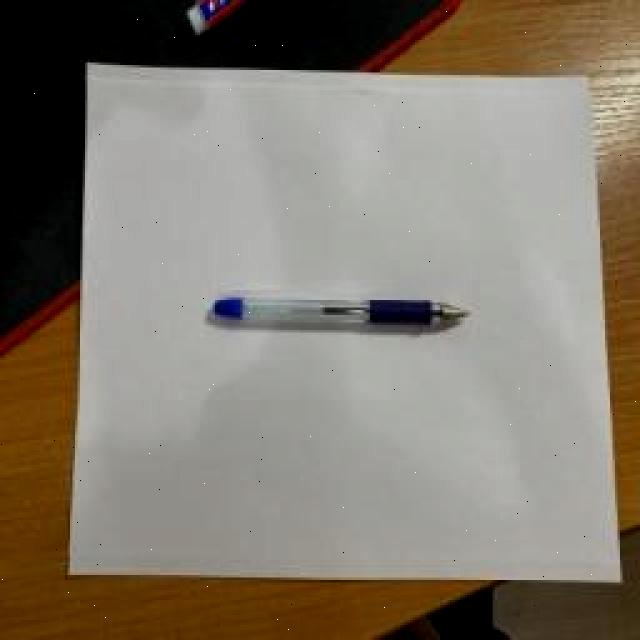pen: (215, 292, 472, 326)
